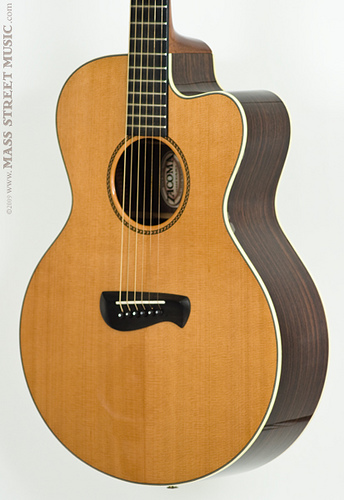guitar: (14, 1, 330, 488)
